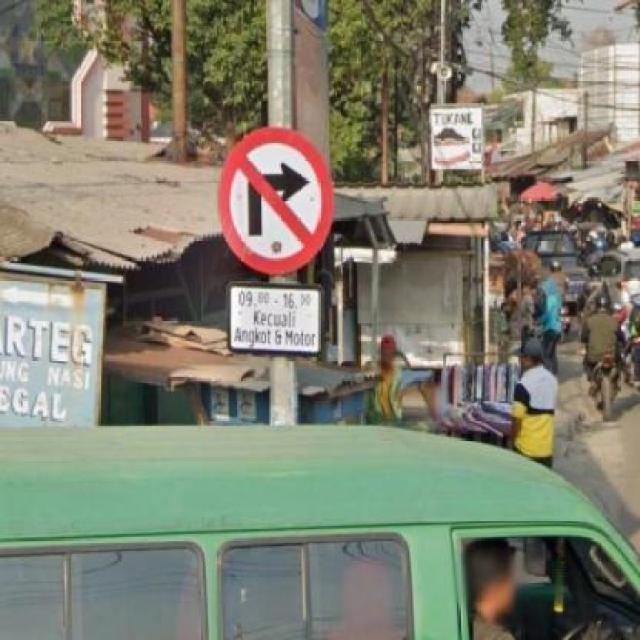right turn prohibited: (217, 125, 334, 280)
